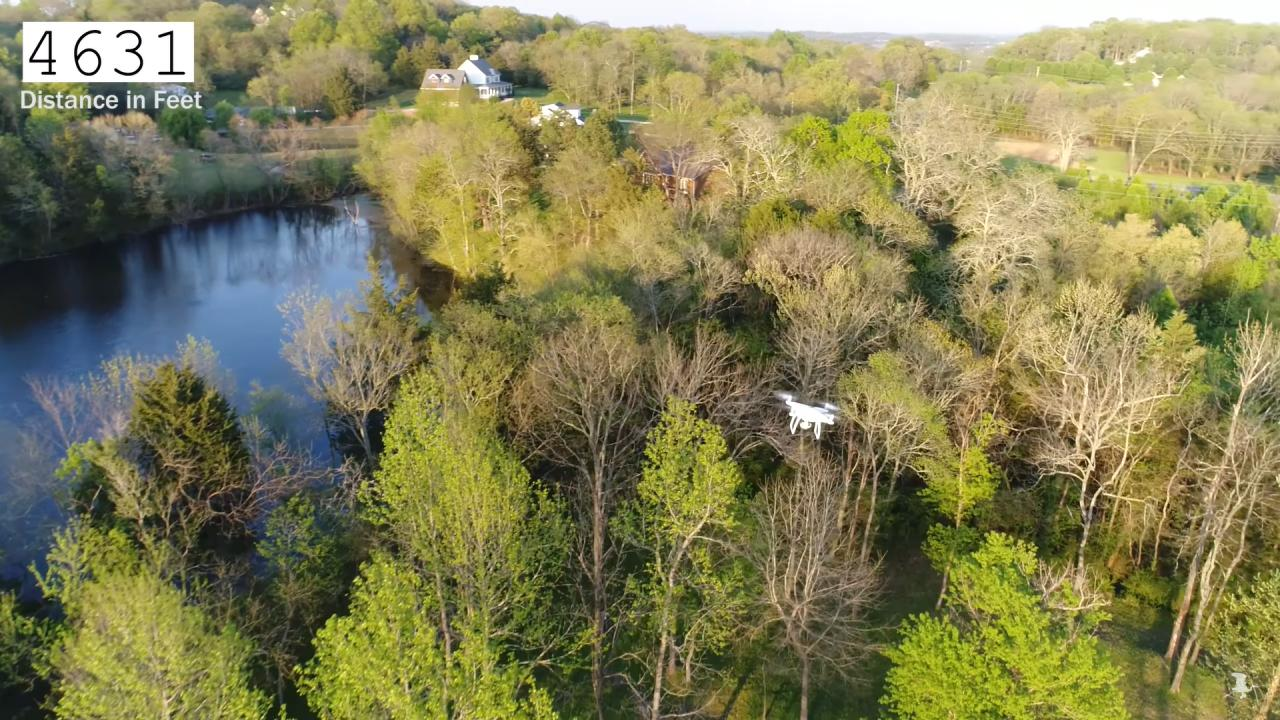Drone: (766, 381, 855, 448)
